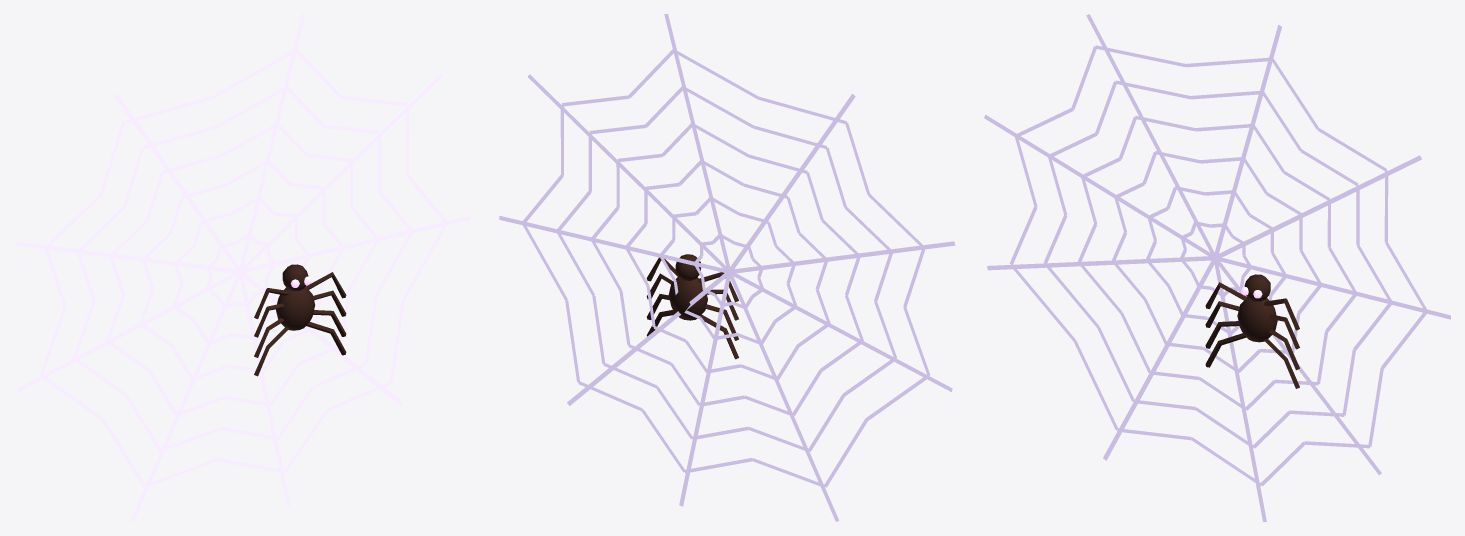
The model's file is Spider_Web.fbx.
The picture shows the model from 3 angles, left to right: view 1: azimuth 30°, elevation 25°; view 2: azimuth 150°, elevation 25°; view 3: azimuth 330°, elevation 25°; orthographic projection. The views are drawn at different scales.
Visible parts, largest first — view 1: Spider_Web_Mesh, Spider_Web_Spider; view 2: Spider_Web_Mesh, Spider_Web_Spider; view 3: Spider_Web_Mesh, Spider_Web_Spider.
Part boxes in pixels (x1=…): Spider_Web_Mesh: x1=14, y1=14, x2=470, y2=521; Spider_Web_Spider: x1=254, y1=264, x2=346, y2=376; Spider_Web_Mesh: x1=499, y1=14, x2=955, y2=521; Spider_Web_Spider: x1=646, y1=254, x2=738, y2=359; Spider_Web_Mesh: x1=984, y1=14, x2=1450, y2=521; Spider_Web_Spider: x1=1205, y1=274, x2=1299, y2=388.
Bounding box in the file's own units: 1.14 × 1.17 × 0.072.
